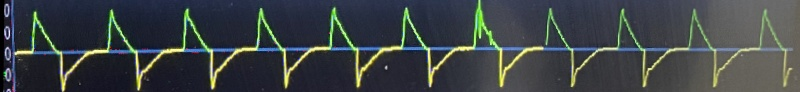hydrop_flow: (453, 1, 540, 91)
normal_flow: (14, 1, 451, 92), (546, 0, 800, 92)
